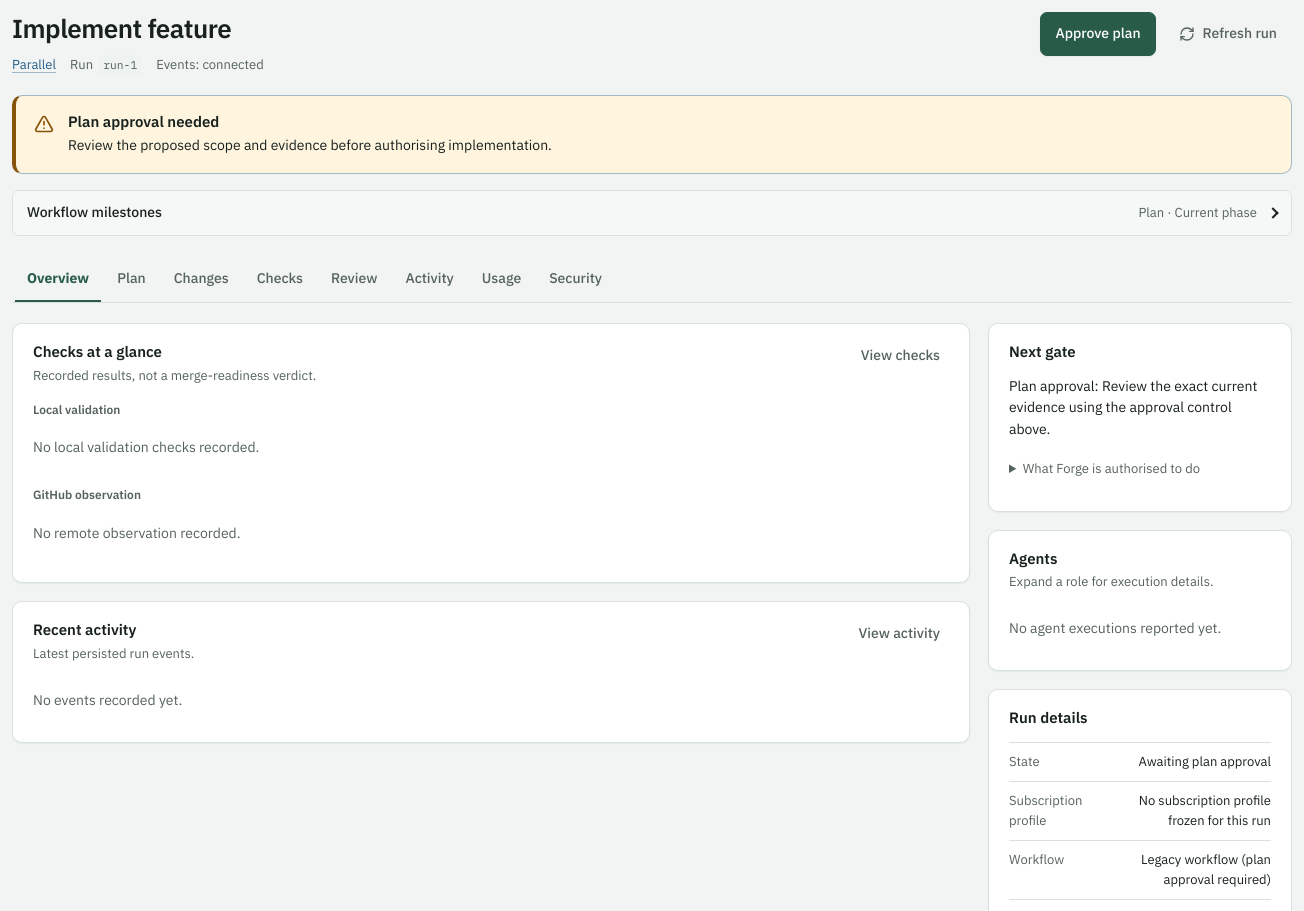
Test case: overview shortcuts transfer keyboard focus to the persistent section button
Click the button "View checks" at [900, 356], box x1=846 y1=334 x2=955 y2=378
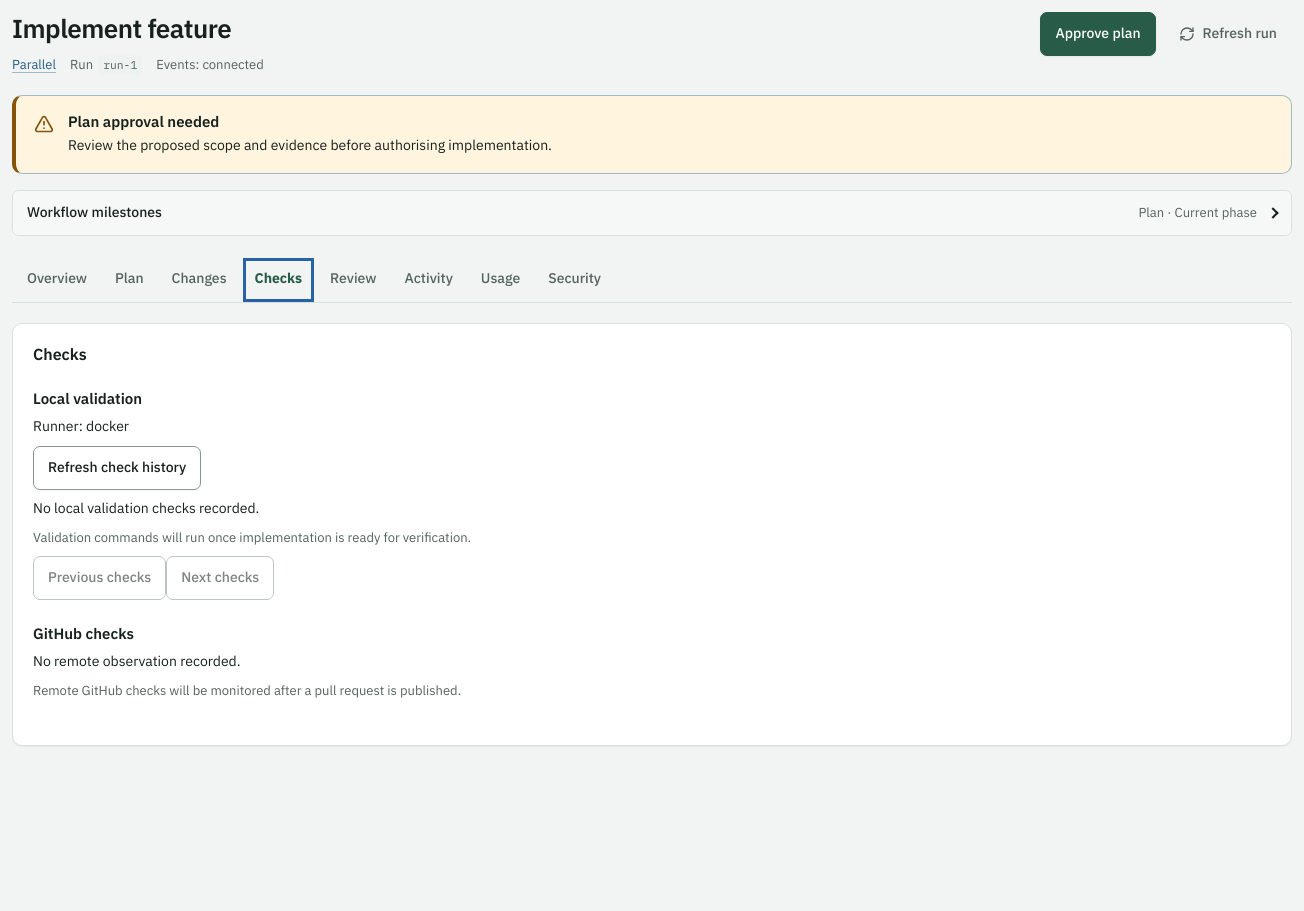
Expected: the element named "Check evidence" is shown, x1=12 y1=323 x2=1292 y2=746
